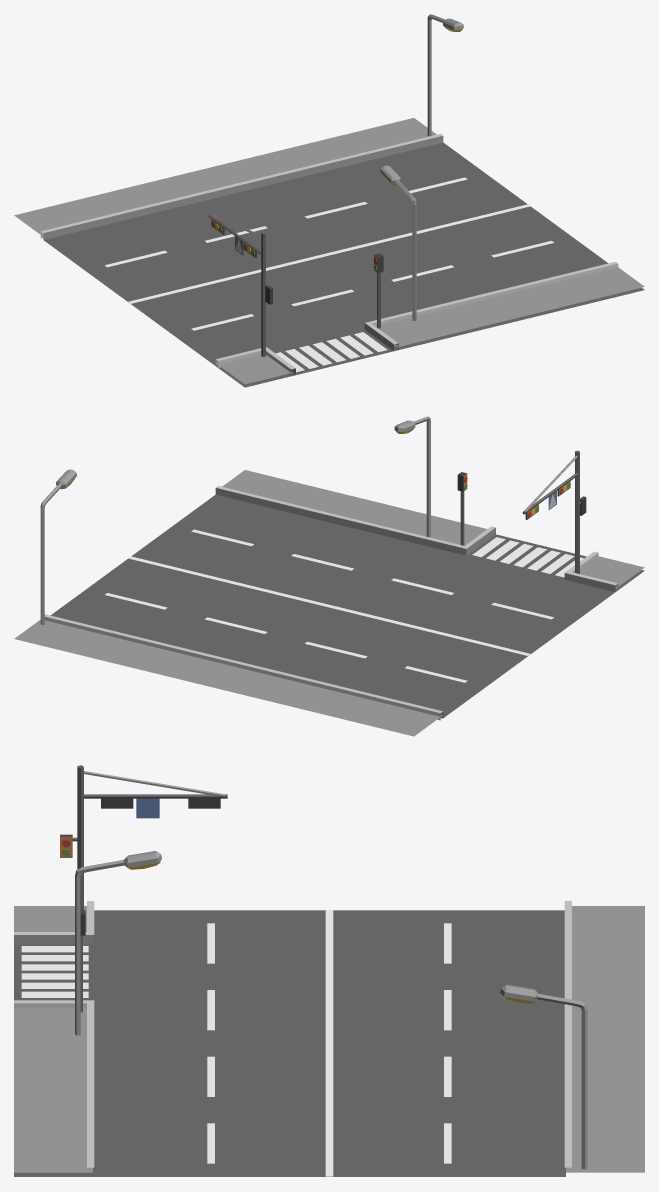
The model's file is road_tile_2x2_001.fbx.
3 renders of one model, top to bottom at view 1: azimuth 30°, elevation 25°; view 2: azimuth 150°, elevation 25°; view 3: azimuth 270°, elevation 25°, orthographic. The views are drawn at different scales.
Visible parts, largest first — view 1: road_tile_2x2_001; view 2: road_tile_2x2_001; view 3: road_tile_2x2_001.
Part boxes in pixels (x1,y1,x2,y2): road_tile_2x2_001: (14,14,644,387); road_tile_2x2_001: (14,416,644,736); road_tile_2x2_001: (14,765,644,1176).
Size of the model in its own units: 1600 by 525 by 1600.
